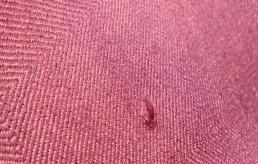knot: (136, 95, 160, 131)
